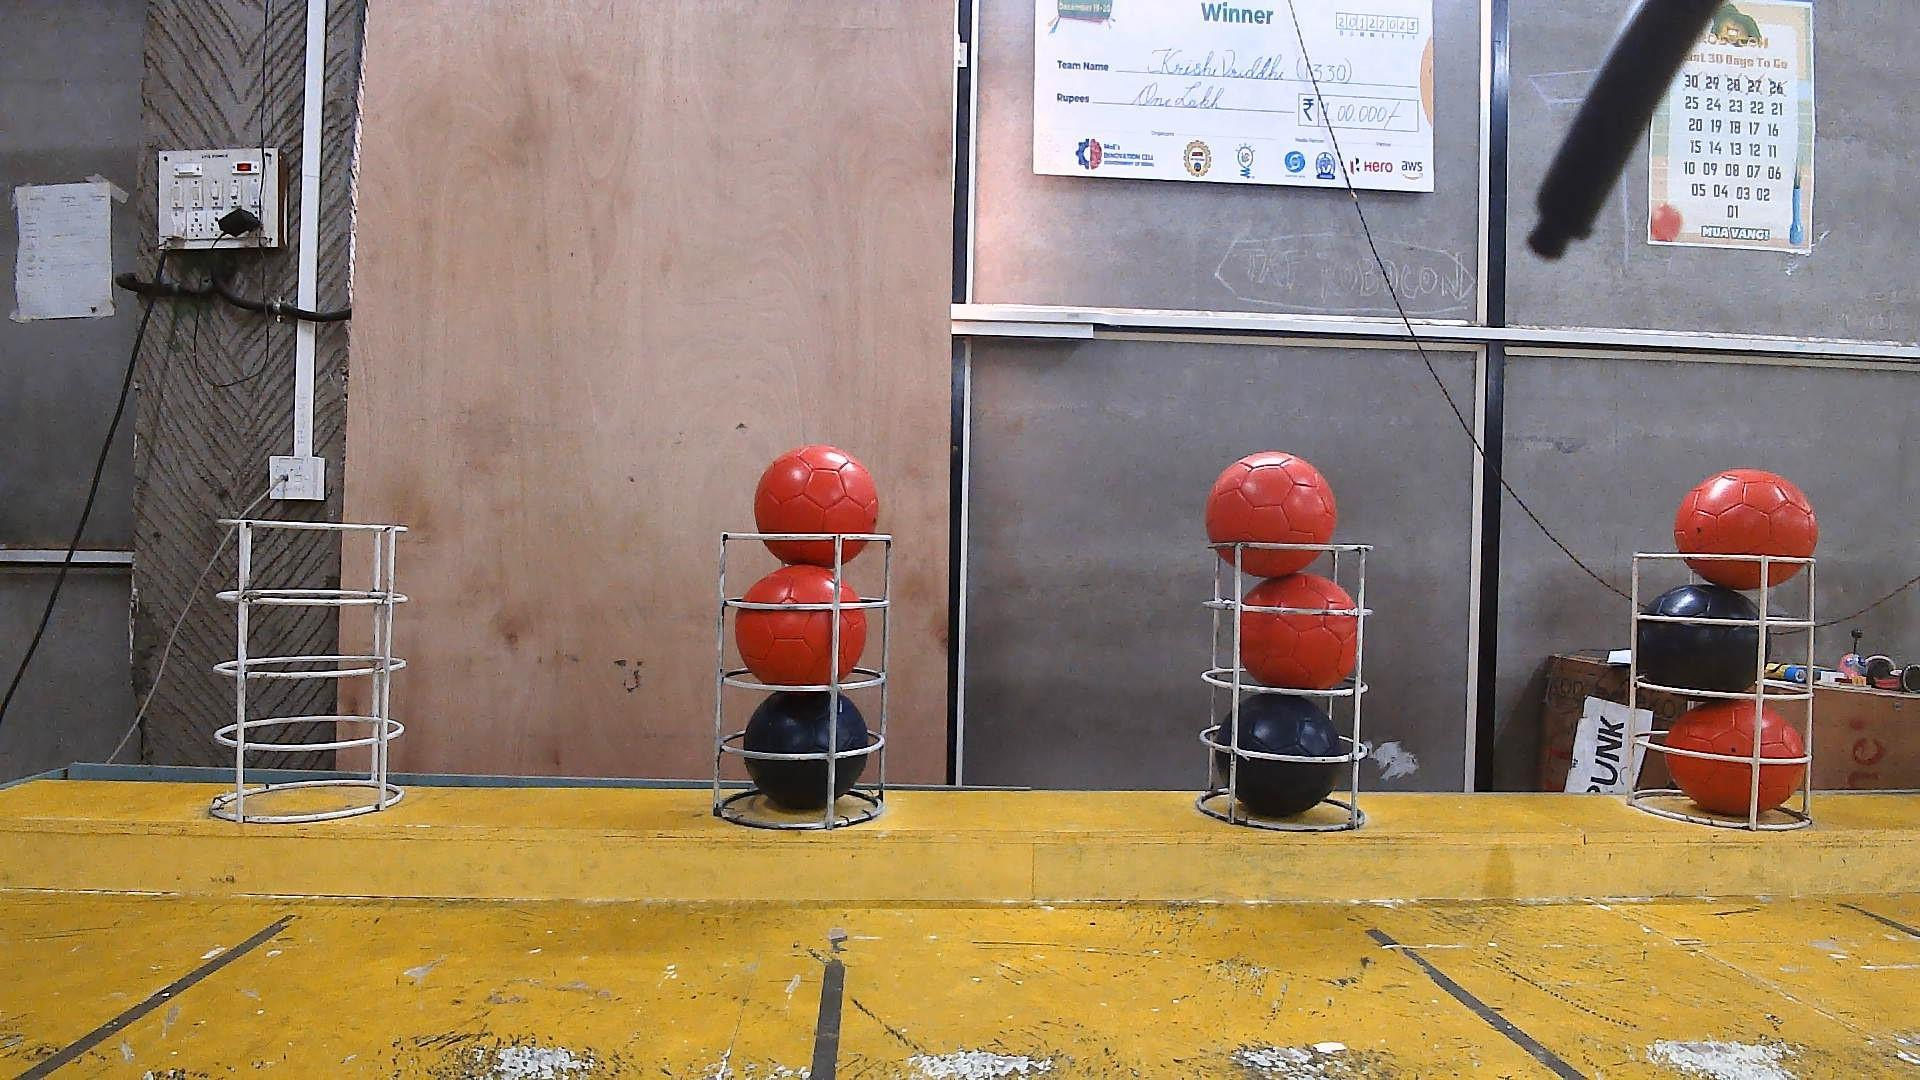dhoka: (1215, 690, 1346, 818), (742, 690, 870, 810), (1635, 582, 1770, 694)
laale: (1665, 698, 1808, 825), (1672, 468, 1818, 592), (1204, 450, 1338, 578), (735, 566, 866, 686), (754, 446, 877, 566), (1241, 574, 1357, 690)
